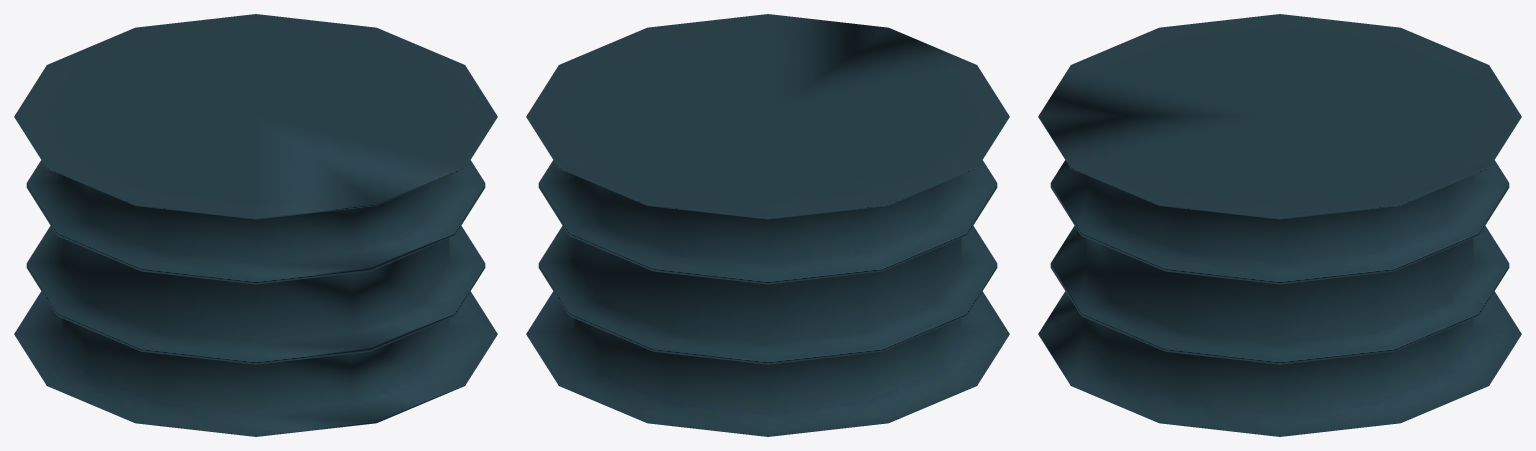
Rendered from spouting-crossbeam-unit-tripo-original.glb.
3 renders of one model, left to right at view 1: azimuth 30°, elevation 25°; view 2: azimuth 150°, elevation 25°; view 3: azimuth 270°, elevation 25°, orthographic.
Visible parts, largest first — view 1: Authored_surface; view 2: Authored_surface; view 3: Authored_surface.
Part boxes in pixels (bbox=[...]): Authored_surface: bbox=[14, 14, 497, 436]; Authored_surface: bbox=[526, 14, 1009, 436]; Authored_surface: bbox=[1038, 14, 1521, 436].
Size of the model in its own units: 1 by 0.5 by 1.
Materials: 1 (1 with a texture image).
